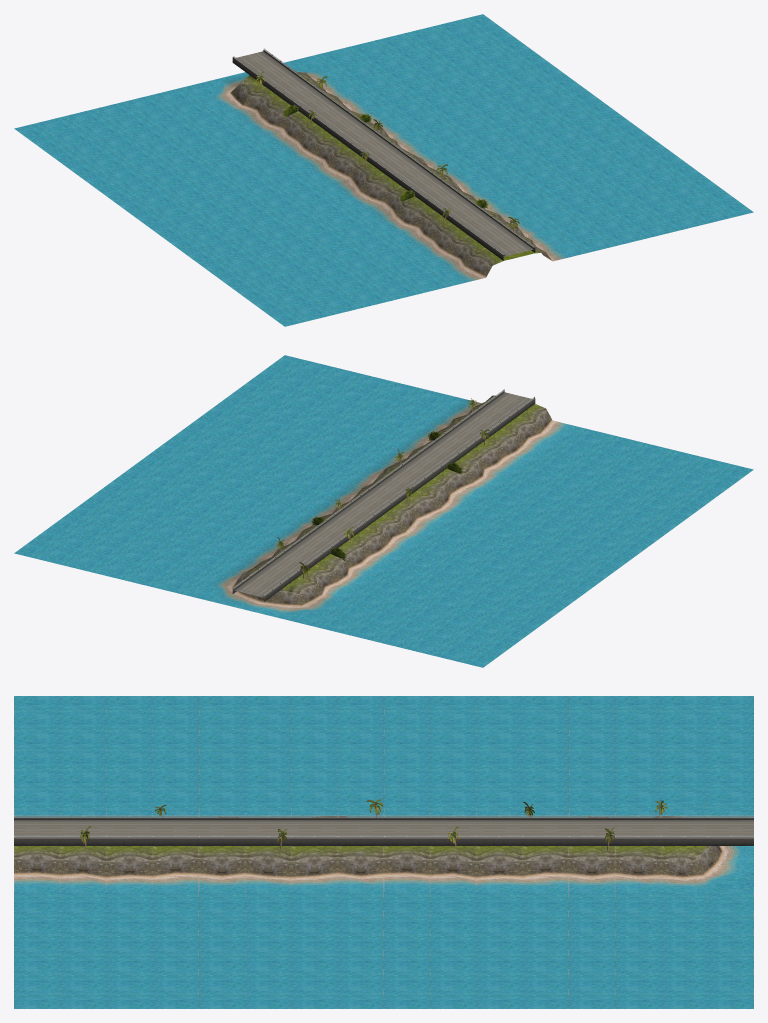
The model's file is Track07_Low.FBX.
3 renders of one model, top to bottom at view 1: azimuth 30°, elevation 25°; view 2: azimuth 150°, elevation 25°; view 3: azimuth 270°, elevation 25°, orthographic. The views are drawn at different scales.
Parts seen in each view (by area): view 1: Ground, Road (×2); view 2: Ground, Road (×2); view 3: Ground, Road (×2).
Boxes of the visible parts, box(x1,y1,x2,y2) form: Ground: box(14, 14, 753, 326); Road (×2): box(232, 48, 535, 260); Ground: box(14, 355, 753, 667); Road (×2): box(232, 389, 535, 601); Ground: box(14, 696, 753, 1008); Road (×2): box(14, 815, 753, 845).
Size of the model in its own units: 6300 by 377 by 6300.
